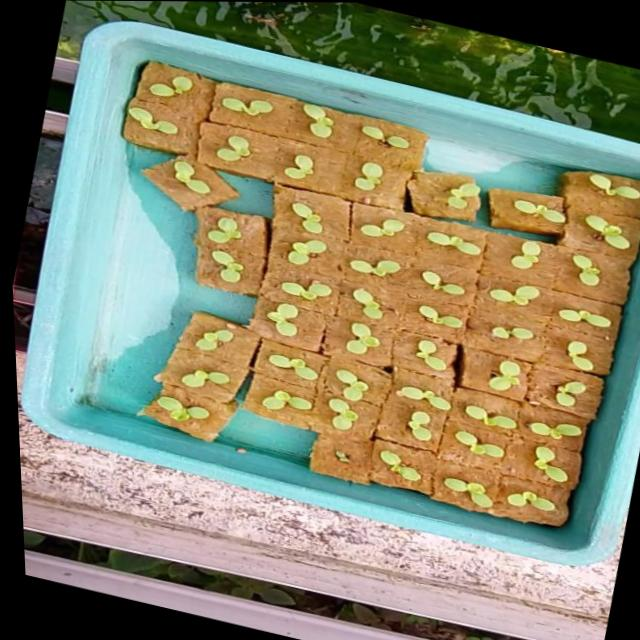Baby: (552, 245, 608, 288), (169, 159, 221, 204), (137, 71, 201, 106), (148, 101, 199, 138), (479, 323, 539, 351), (279, 272, 328, 305), (410, 338, 456, 372), (271, 351, 324, 380), (527, 420, 586, 445), (446, 477, 495, 507), (555, 380, 595, 416), (210, 94, 270, 118), (271, 239, 325, 265), (398, 386, 453, 411), (382, 449, 424, 480), (160, 393, 212, 418), (419, 269, 466, 295), (466, 405, 518, 428), (206, 208, 240, 243), (536, 446, 568, 481), (349, 321, 382, 353), (417, 304, 461, 328), (269, 302, 300, 336), (301, 105, 332, 139), (338, 368, 370, 400), (489, 360, 522, 391), (487, 285, 538, 305), (507, 489, 555, 510), (291, 201, 321, 234), (557, 308, 609, 326), (352, 287, 382, 318), (331, 396, 360, 427), (264, 392, 311, 411), (349, 259, 400, 276), (185, 367, 233, 385), (219, 137, 252, 163), (212, 256, 244, 282), (199, 327, 236, 349), (353, 162, 382, 190), (510, 241, 539, 268), (465, 437, 504, 457), (565, 341, 591, 371), (410, 410, 433, 441), (284, 155, 313, 179), (368, 219, 400, 236)
